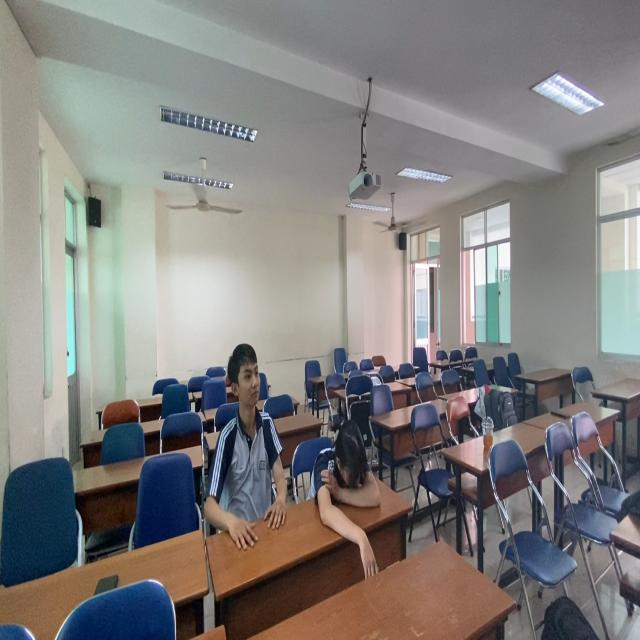sleep: (302, 421, 387, 529)
